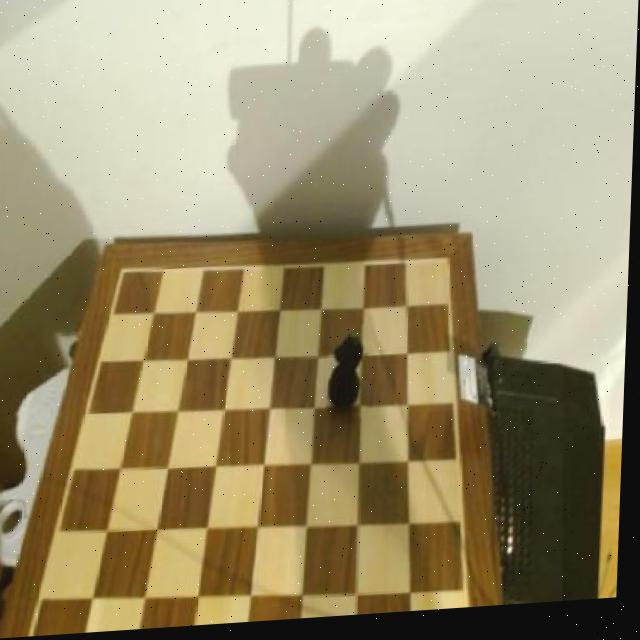black-king: (330, 331, 373, 426)
